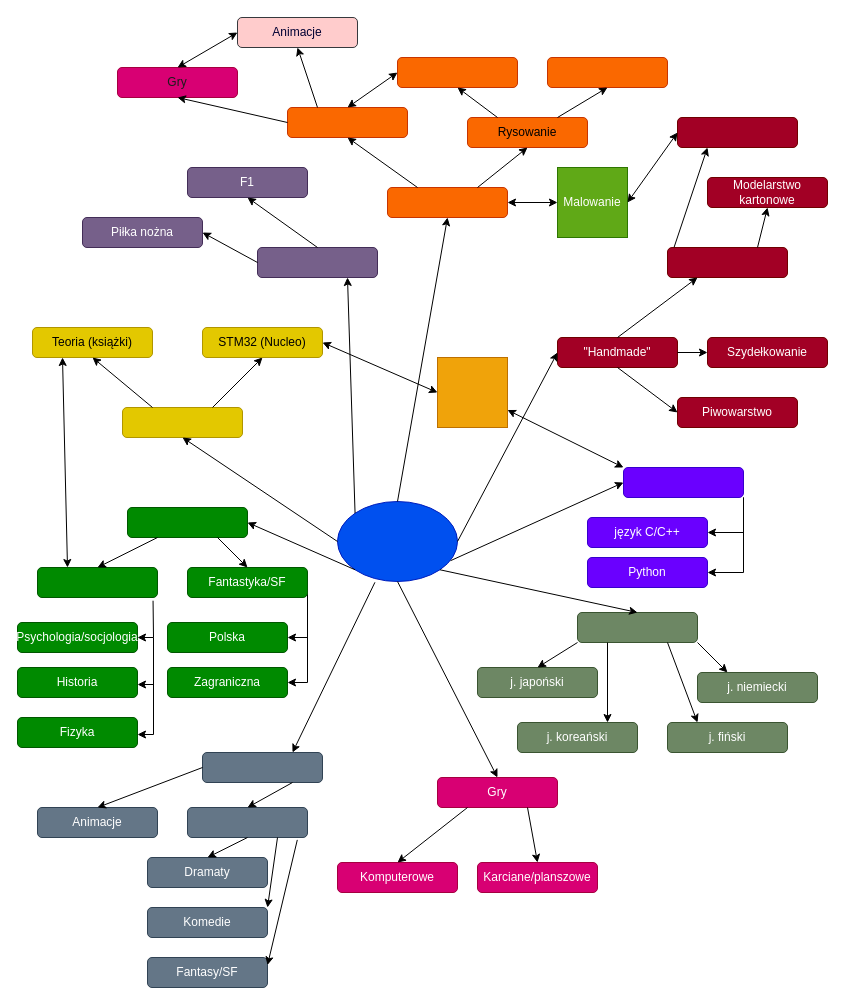
Some shapes in this 845 by 1005 pixel diagram are drawn without their labels. The box of each missing label's shape, as (x1, y1, x2, y2) in pixels:
Aplikacje: (436, 356, 508, 428)
Blender3D: (286, 106, 408, 138)
Elektronika: (122, 406, 242, 438)
Filmy: (202, 752, 322, 782)
Grafika: (386, 186, 508, 218)
Języki obce: (576, 612, 698, 642)
Książki: (126, 506, 248, 538)
Modelarstwo: (666, 246, 788, 278)
Modelarstwo plastikowe: (676, 116, 798, 148)
Nauka/historia: (36, 566, 158, 598)
Programowanie: (622, 466, 744, 498)
Rysowanie na komputerze: (396, 56, 518, 88)
Rysowanie na papierze: (546, 56, 668, 88)
Sport: (256, 246, 378, 278)
Wszystko inne: (186, 806, 308, 838)
ZAINTERESOWANIA: (336, 500, 458, 582)
